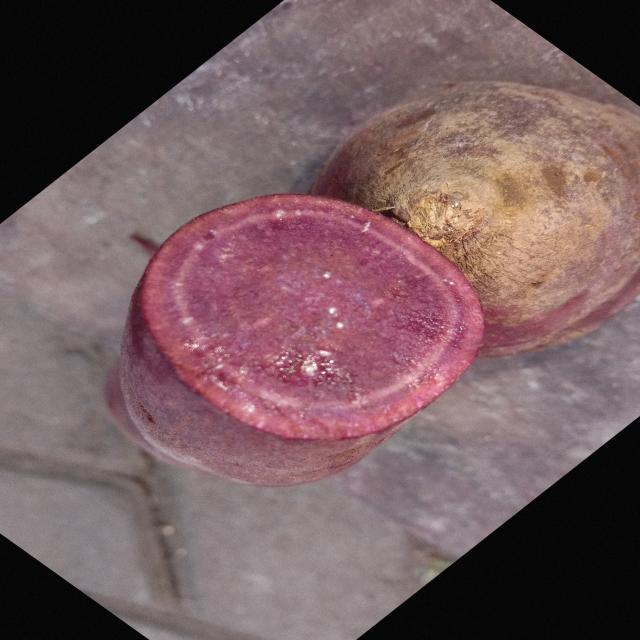Healthy Sweet Potato: (138, 194, 483, 440)
